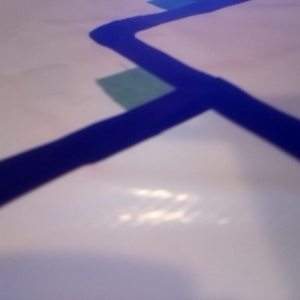top_right: (167, 91, 292, 173)
